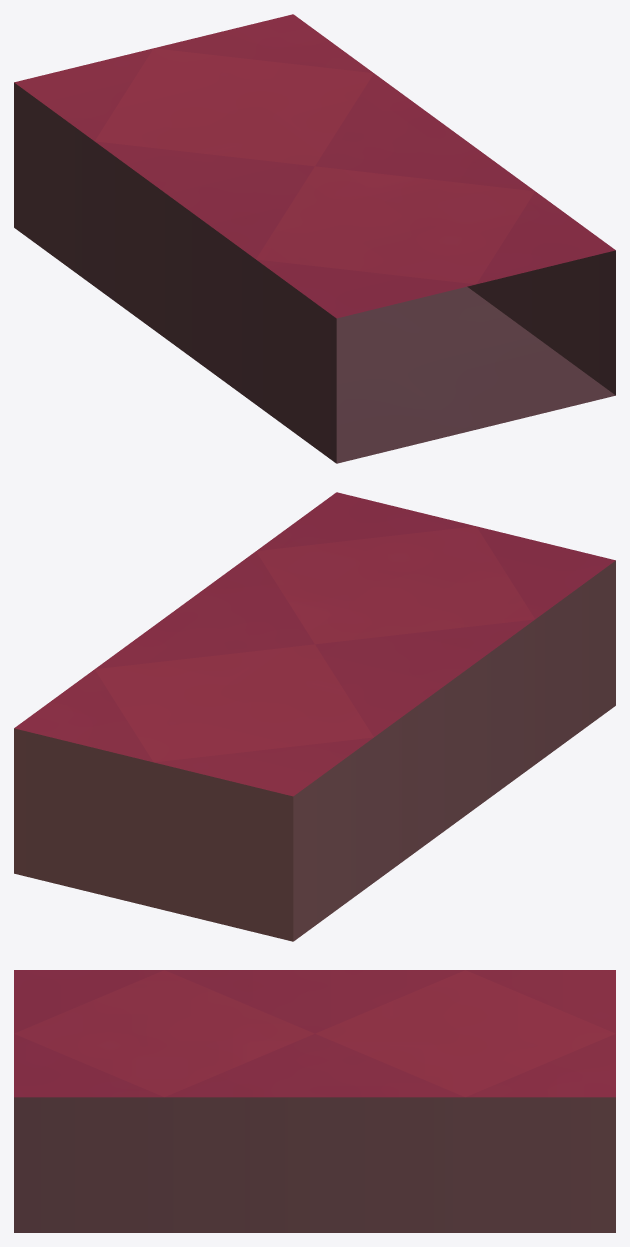
Rendered from SM_Baseblock1x0.5Level2.fbx.
The picture shows the model from 3 angles, top to bottom: view 1: azimuth 30°, elevation 25°; view 2: azimuth 150°, elevation 25°; view 3: azimuth 270°, elevation 25°; orthographic projection. The views are drawn at different scales.
Visible parts, largest first — view 1: Base_Halff; view 2: Base_Halff; view 3: Base_Halff.
Part boxes in pixels (x1,y1,x2,y2): Base_Halff: (14, 14, 615, 463); Base_Halff: (14, 492, 615, 941); Base_Halff: (14, 970, 615, 1232).
Size of the model in its own units: 100 by 200 by 49.69.
